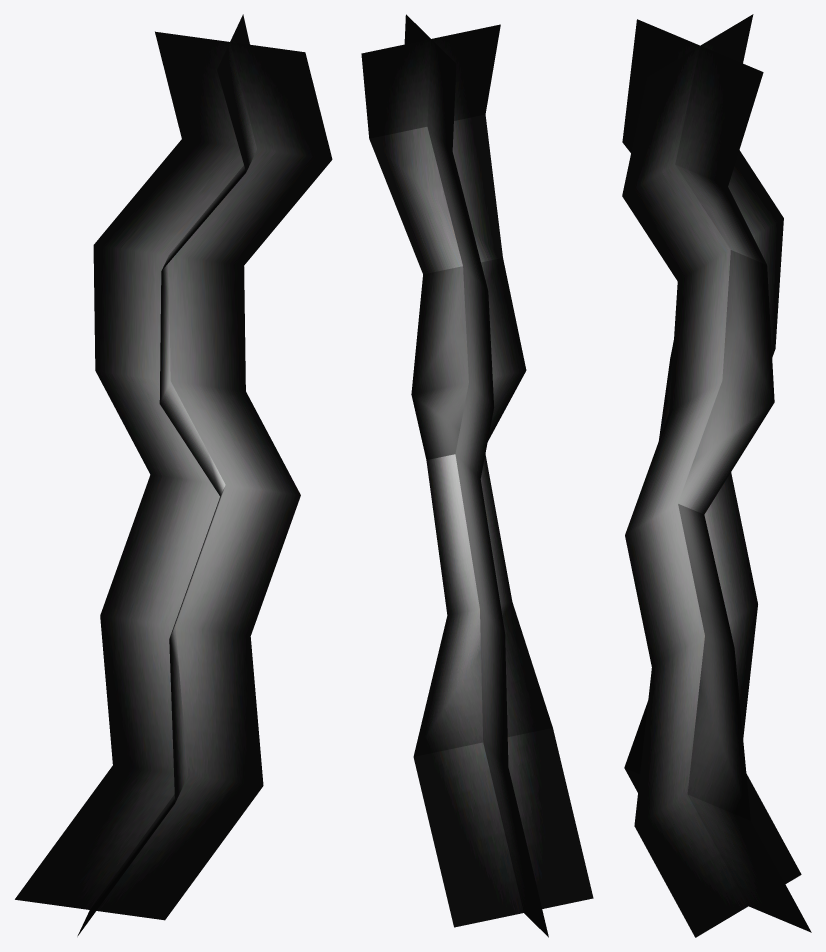
The model's file is vfx_kurp_0486.dae.
The picture shows the model from 3 angles, left to right: view 1: azimuth 30°, elevation 25°; view 2: azimuth 150°, elevation 25°; view 3: azimuth 270°, elevation 25°; orthographic projection. The views are drawn at different scales.
Visible parts, largest first — view 1: vfx_kurp_0486; view 2: vfx_kurp_0486; view 3: vfx_kurp_0486.
Boxes of the visible parts, x1,y1,x2,y2 form: vfx_kurp_0486: (15, 14, 332, 936); vfx_kurp_0486: (361, 14, 593, 937); vfx_kurp_0486: (622, 14, 811, 937).
Size of the model in its own units: 4.67 by 3.03 by 16.44.
Materials: 1 (1 with a texture image).
